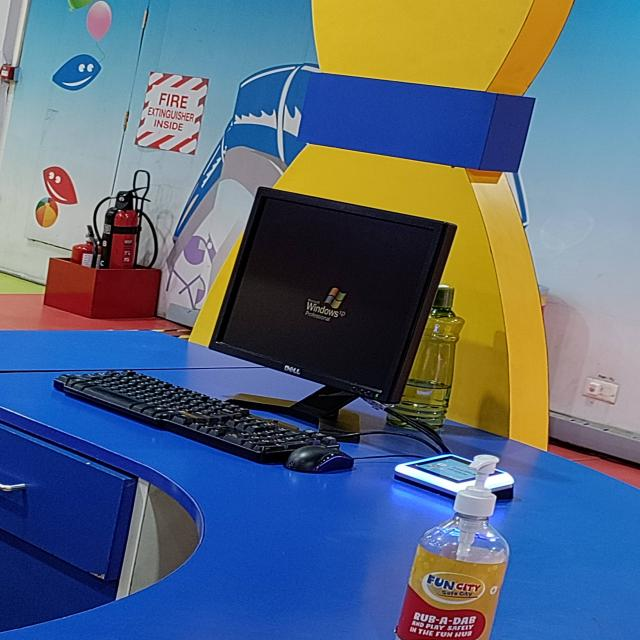dry: (49, 365, 295, 480), (402, 448, 528, 640), (69, 175, 160, 334)
